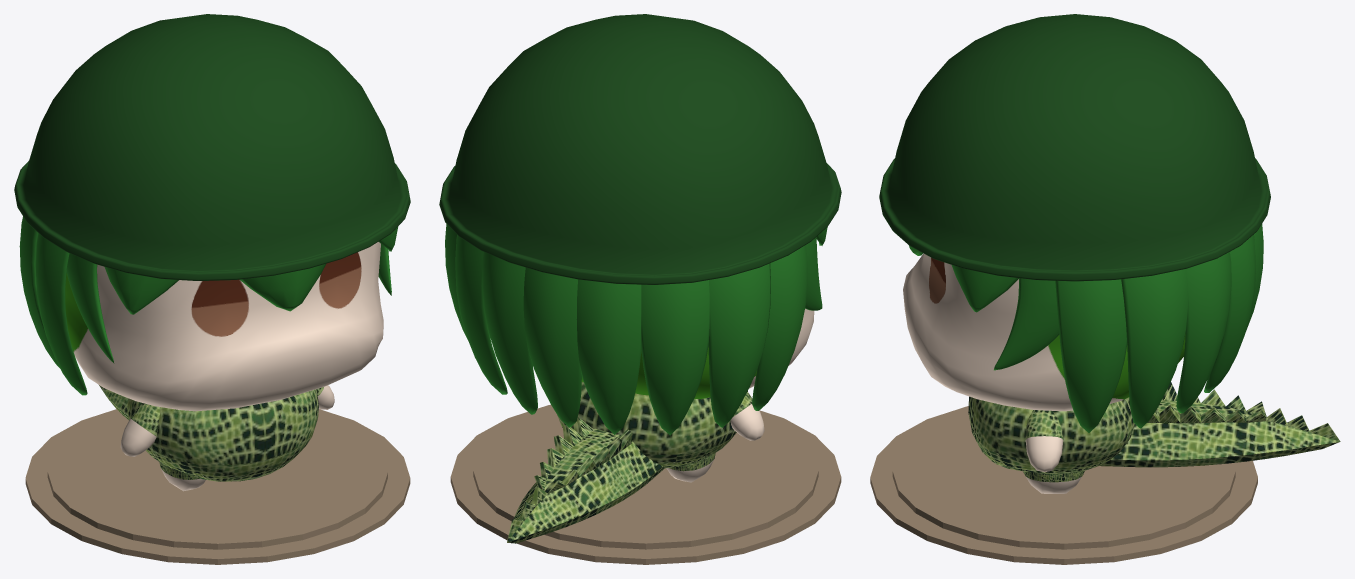
The model's file is crocodile.fbx.
The picture shows the model from 3 angles, left to right: view 1: azimuth 30°, elevation 25°; view 2: azimuth 150°, elevation 25°; view 3: azimuth 270°, elevation 25°; orthographic projection.
Parts seen in each view (by area): view 1: crocodile_cap, base1, head_crocodile, body3, crocodile_hair05, crocodile_hair04, crocodile_hair01, crocodile_hair07, crocodile_hair02, pCube159, pCube39; view 2: crocodile_cap, base1, crocodile_hair08, crocodile_hair09, crocodile_hair07, crocodile_tale, crocodile_hair06, body3, crocodile_hair13, crocodile_hair05, crocodile_hair12, head_crocodile (+4 smaller); view 3: crocodile_cap, base1, head_crocodile, crocodile_hair10, crocodile_tale, crocodile_hair11, body3, crocodile_hair12, crocodile_hair04_detached, crocodile_hair13, pCube6, crocodile_hair03 (+2 smaller).
Part boxes in pixels (x1,y1,x2,y2): crocodile_cap: [14, 14, 410, 280]; base1: [25, 409, 410, 564]; head_crocodile: [65, 242, 383, 411]; body3: [127, 389, 318, 481]; crocodile_hair05: [35, 233, 87, 395]; crocodile_hair04: [66, 253, 114, 363]; crocodile_hair01: [240, 263, 325, 311]; crocodile_hair07: [19, 216, 59, 367]; crocodile_hair02: [104, 266, 178, 314]; pCube159: [120, 403, 159, 456]; pCube39: [159, 462, 205, 491]; crocodile_cap: [439, 14, 841, 284]; base1: [450, 404, 841, 564]; crocodile_hair08: [641, 280, 709, 435]; crocodile_hair09: [576, 279, 641, 434]; crocodile_hair07: [708, 263, 770, 427]; crocodile_tale: [507, 428, 664, 543]; crocodile_hair06: [523, 267, 581, 427]; body3: [557, 382, 747, 468]; crocodile_hair13: [482, 252, 537, 414]; crocodile_hair05: [752, 245, 807, 410]; crocodile_hair12: [455, 235, 507, 394]; head_crocodile: [581, 308, 814, 399]; crocodile_cap: [879, 14, 1270, 281]; base1: [870, 406, 1257, 564]; head_crocodile: [903, 253, 1185, 411]; crocodile_hair10: [1055, 279, 1127, 432]; crocodile_tale: [1099, 400, 1340, 467]; crocodile_hair11: [1121, 269, 1187, 428]; body3: [968, 396, 1134, 474]; crocodile_hair12: [1176, 252, 1231, 413]; crocodile_hair04_detached: [994, 278, 1059, 370]; crocodile_hair13: [1204, 234, 1255, 392]; pCube6: [1025, 410, 1063, 472]; crocodile_hair03: [951, 265, 1018, 312].
Size of the model in its own units: 6.06 by 7.67 by 7.28.
4 materials, 1 textured.
